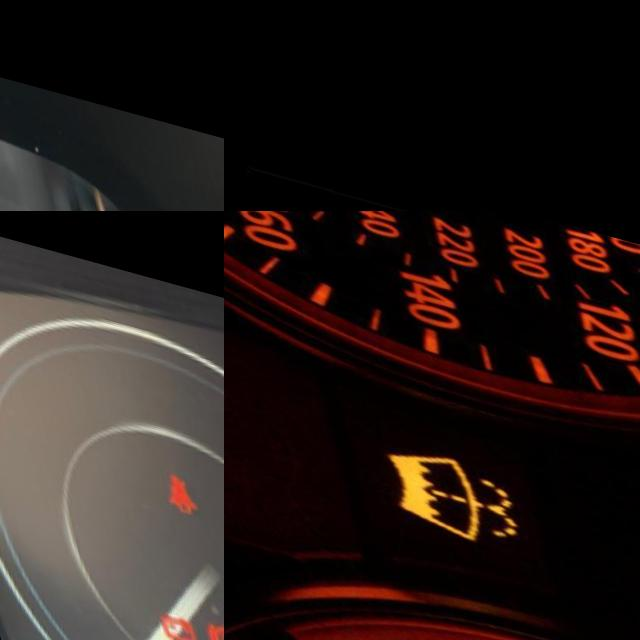Seat Belt: (150, 457, 191, 509)
Washer Fluid: (370, 421, 506, 532)
